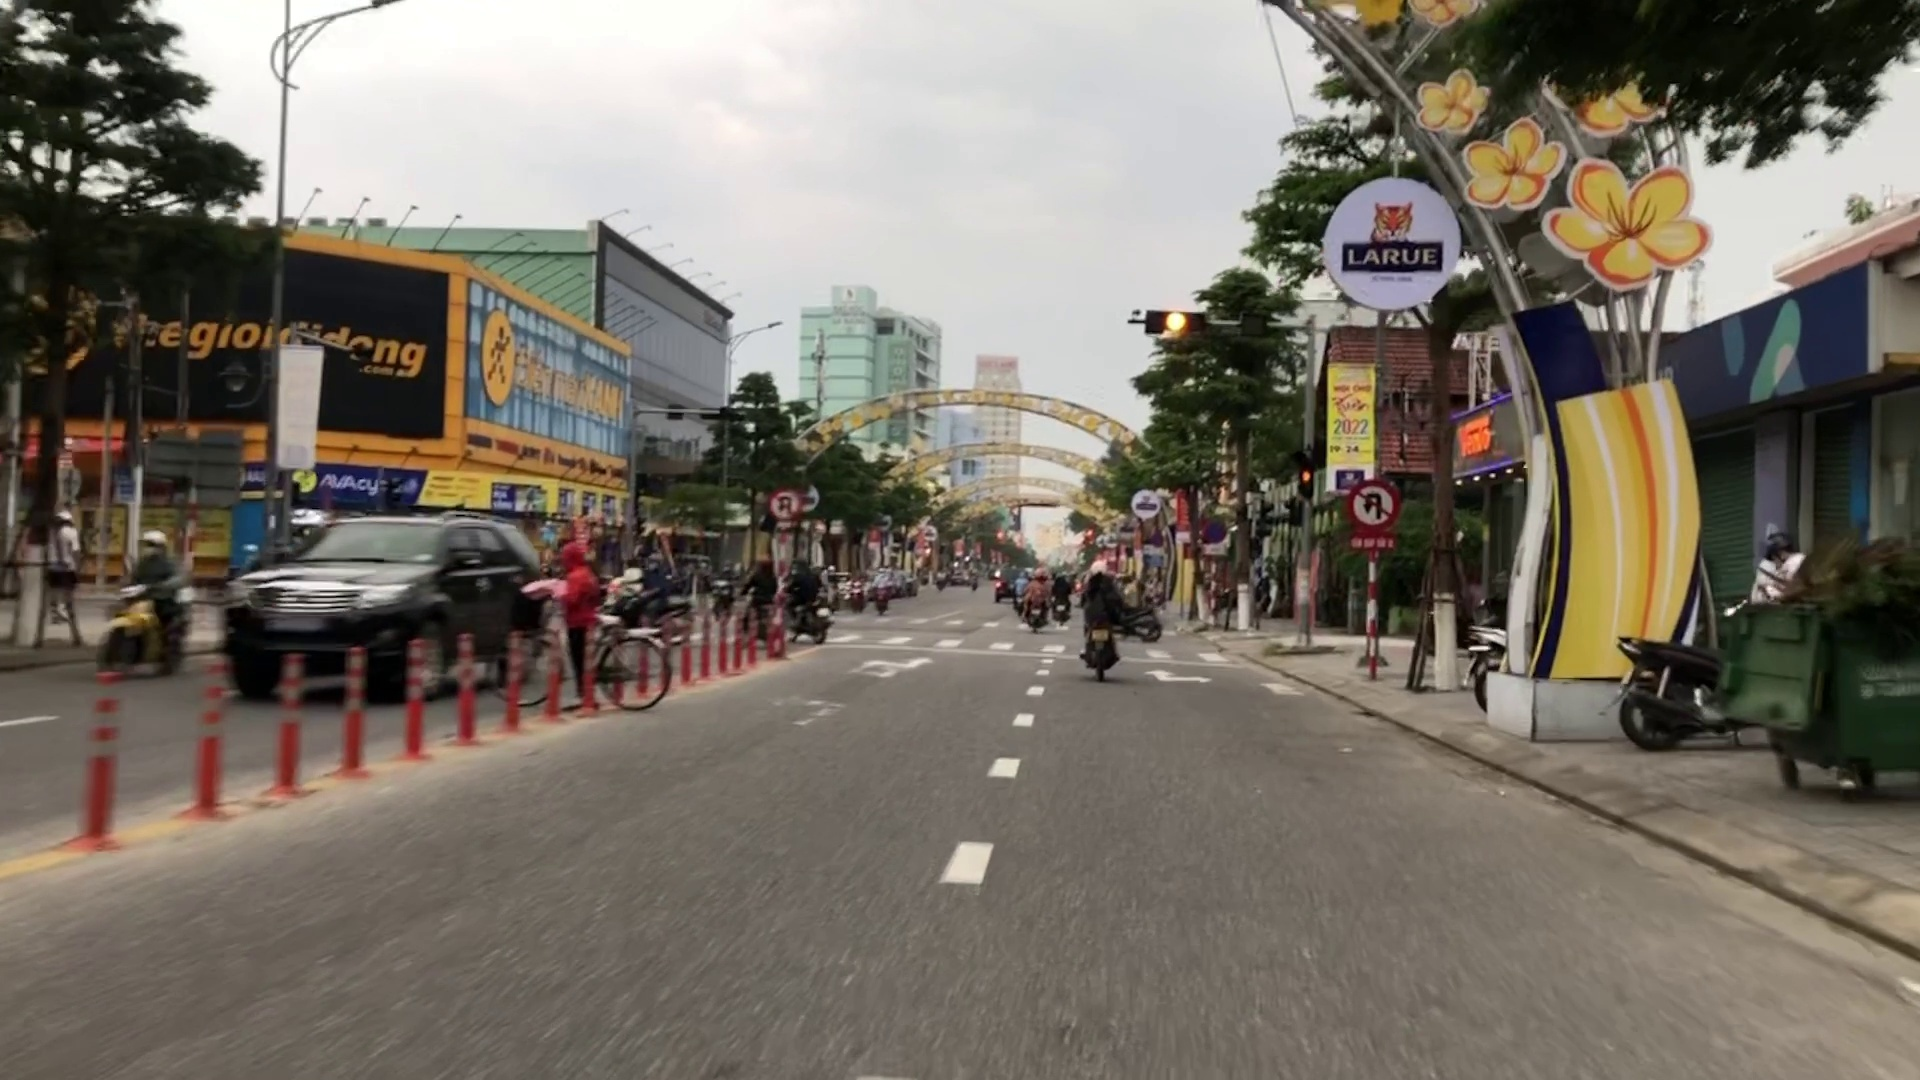Bien khac: (1346, 481, 1398, 527), (767, 487, 799, 524)
